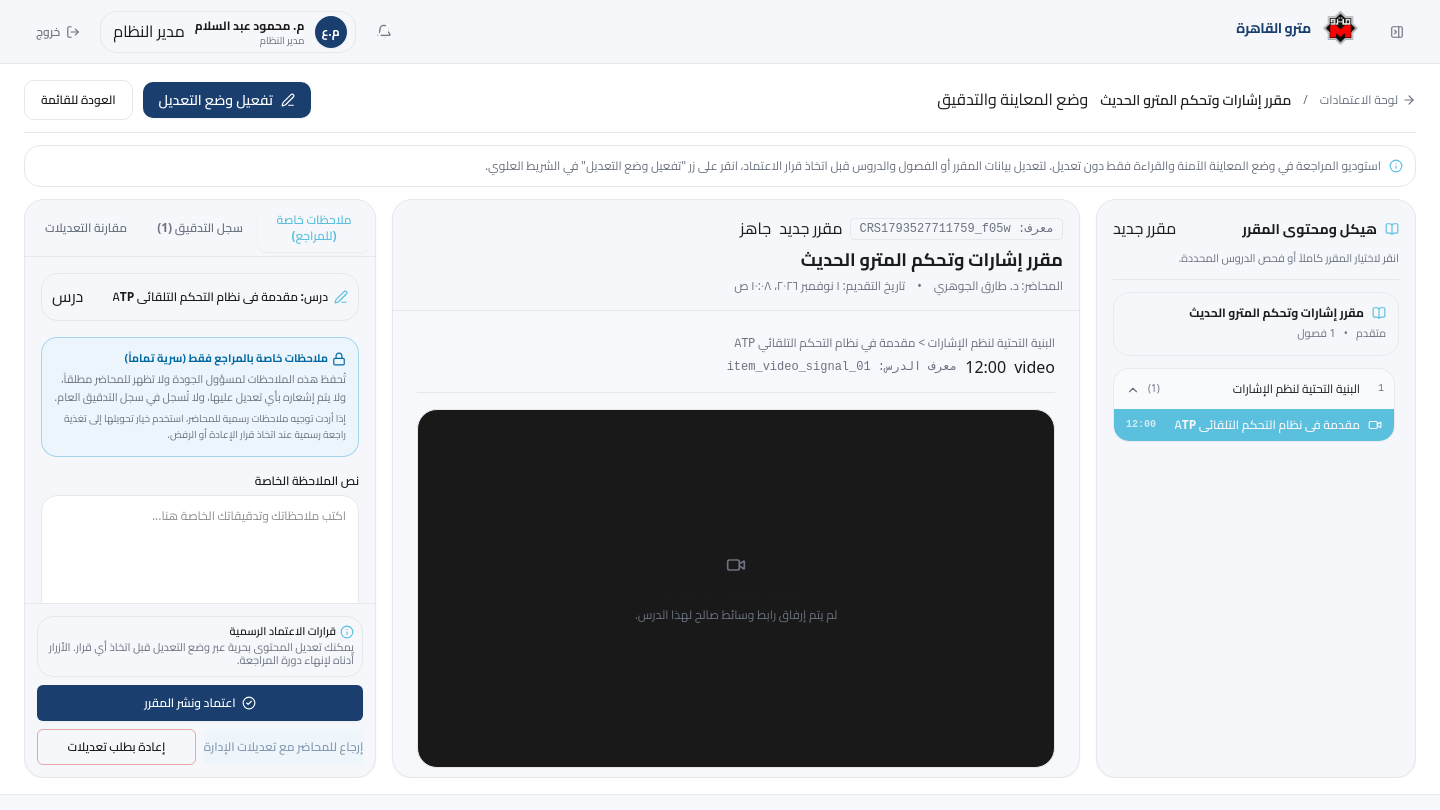
Test: Increment 9 — Phase 6: Decision Modal & The Three Review Outcomes › Outcome A: Approve & Publish › approves submitted baseline when no staged edits exist and includes optional approval note
This screenshot has width=1440, height=810.
# Open Modal
Click the button with test id "action-approve-btn": [200, 703] box [37, 685, 363, 721]
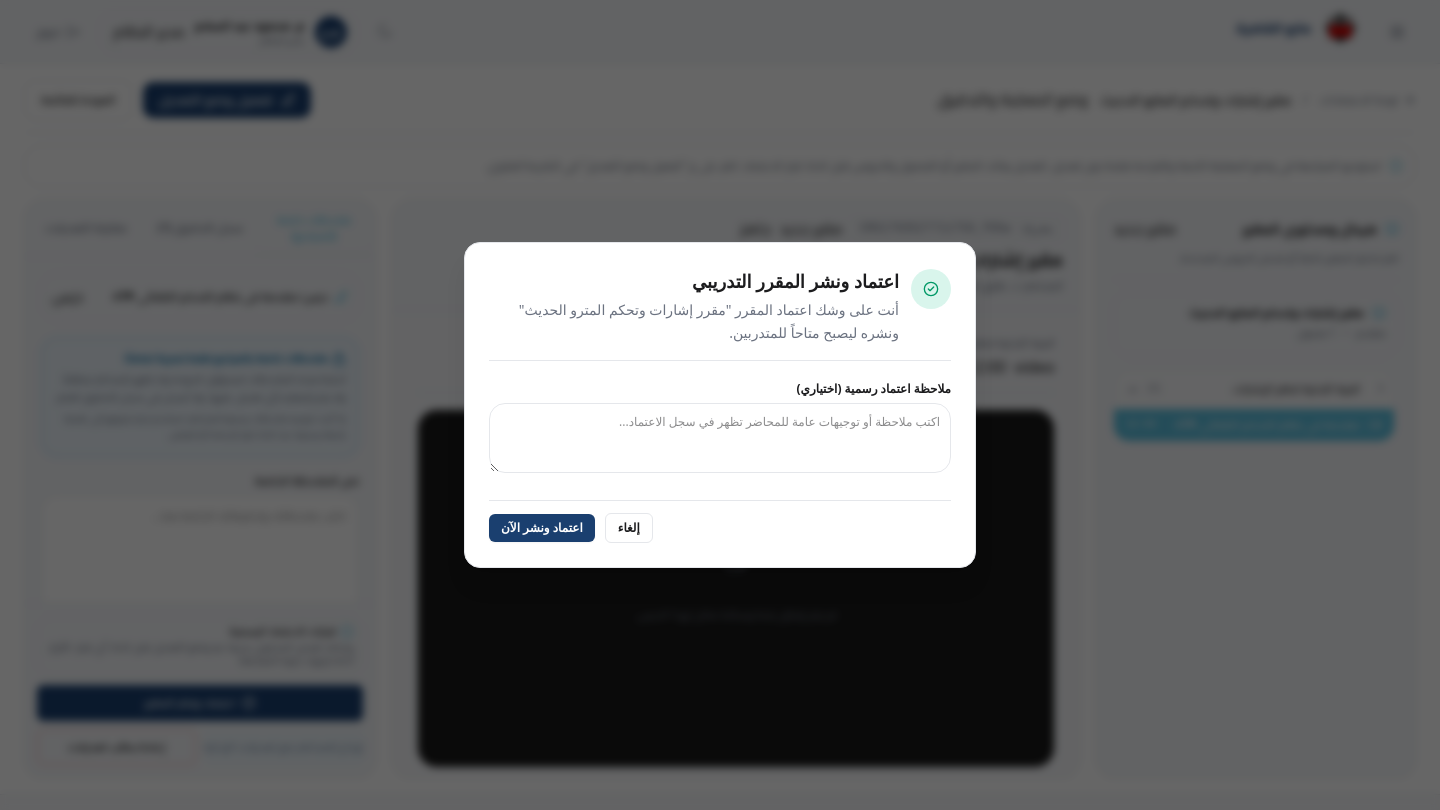
Expected: the dialog with test id "decision-modal" is shown
Expected: the heading with test id "decision-modal-title" reads "اعتماد ونشر المقرر التدريبي", [692, 269, 899, 293]
# Enter optional approval note
In the text box with test id "approval-note-input": [720, 438] box [489, 403, 951, 473], type "مقرر ممتاز ومستوفٍ لكافة المعايير الفنية"
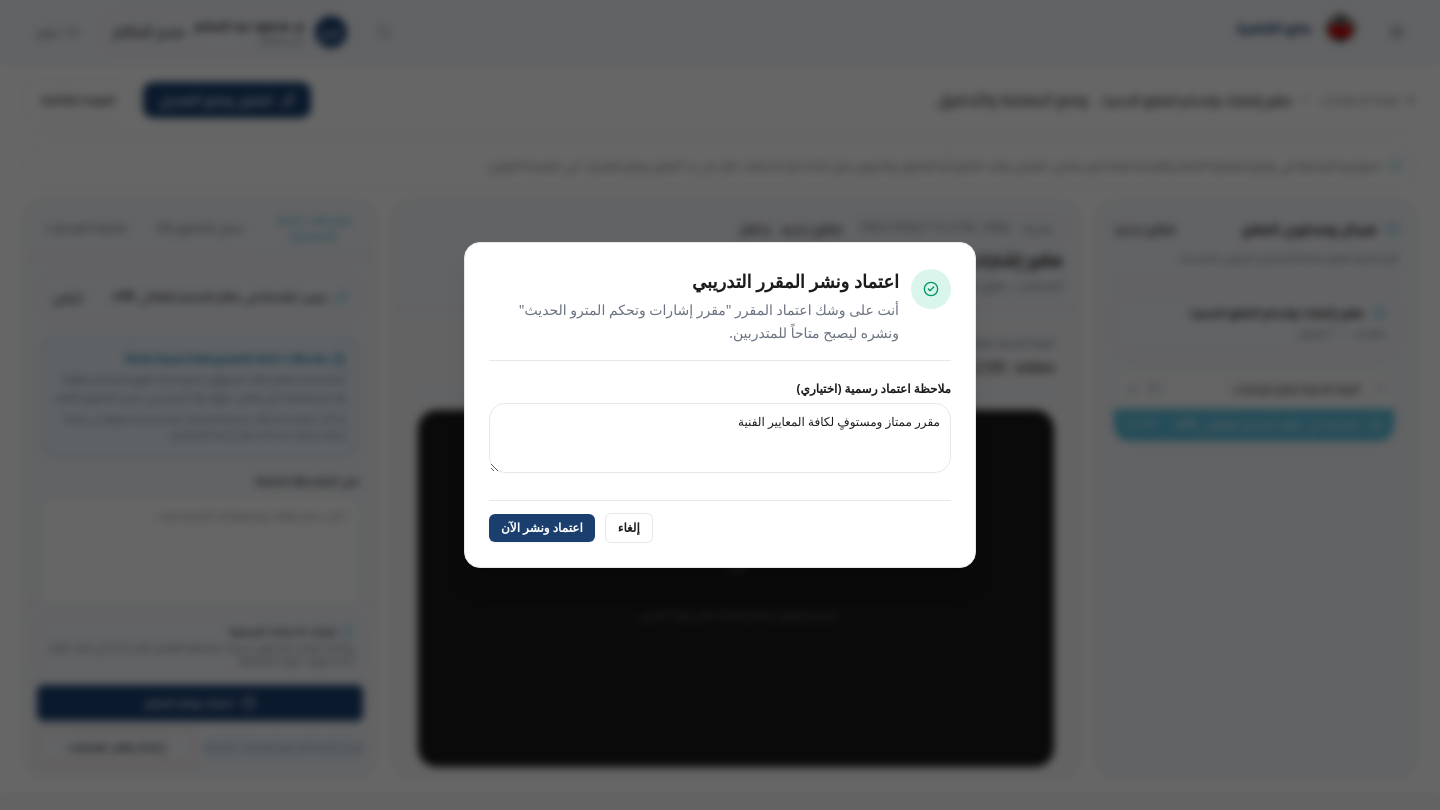
# Confirm approval
Click the button with test id "confirm-approve-btn": [542, 528] box [489, 514, 595, 542]
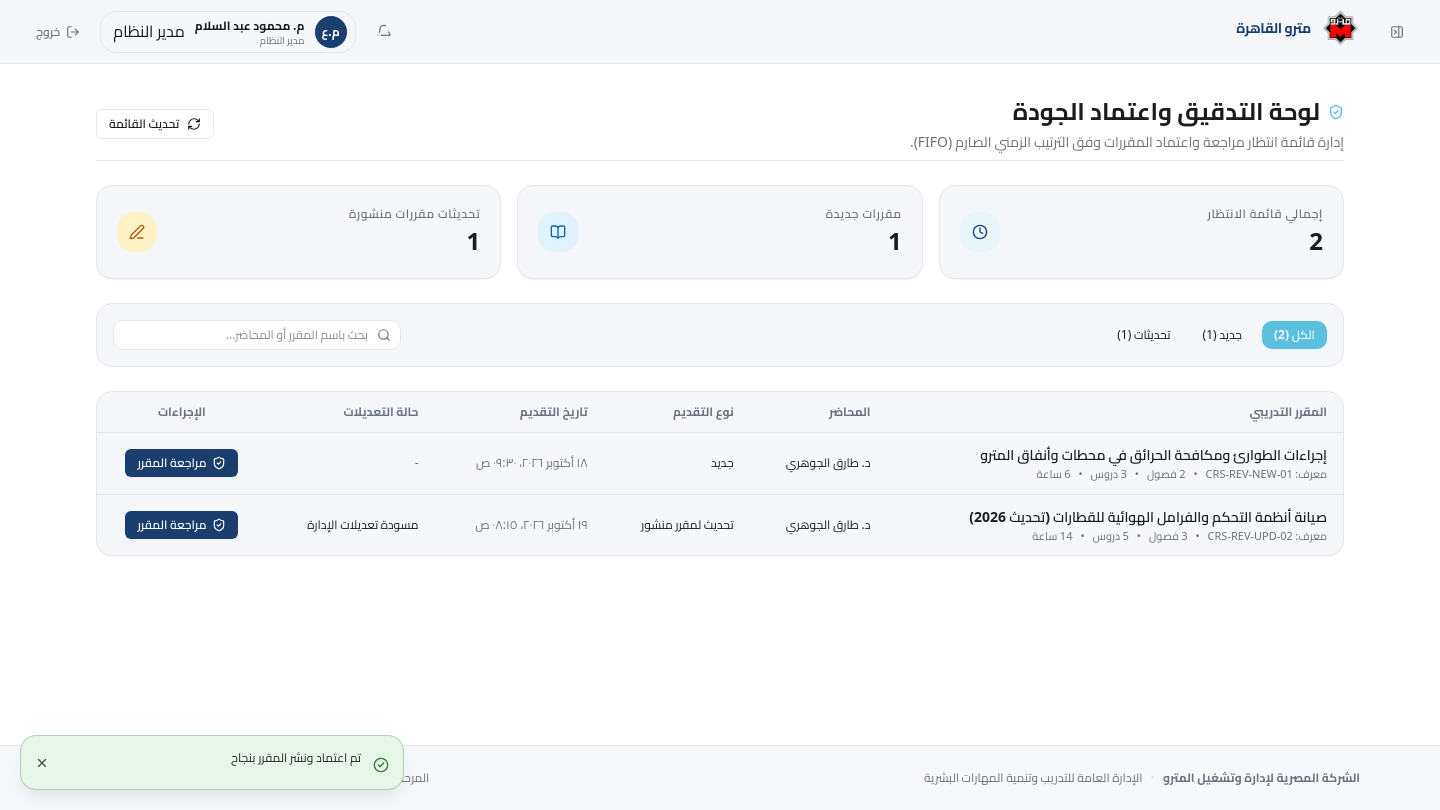
Expected: the element with test id "approvals-page" is shown, [80, 64, 1360, 588]
